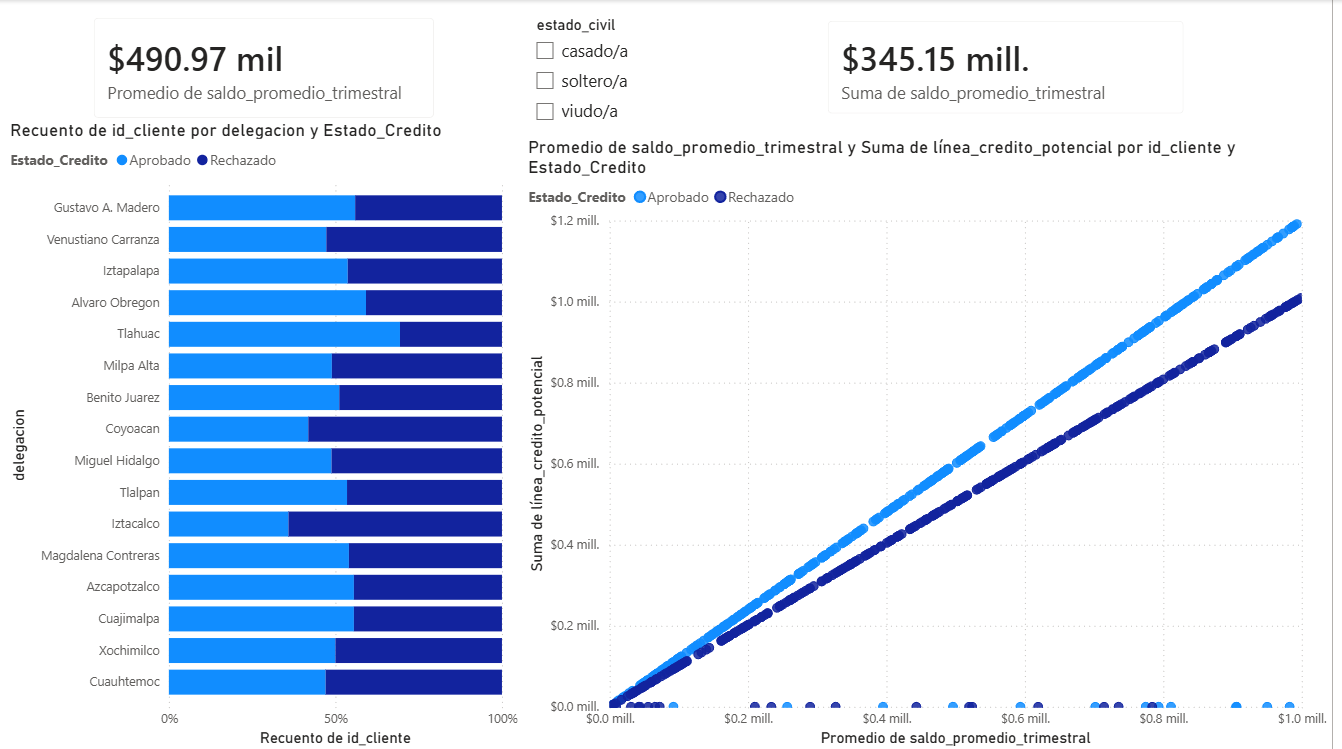

This screenshot's page, from the dashboard's own definition file:
{"tool":"powerbi","page":{"name":"Página 1","canvas":[1280,720],"ordinal":0},"visuals":[{"type":"cardVisual","fields":{"Data":["Avg(data_ml.saldo_promedio)"]},"box":[76.6,0,360.2,130.3],"z":0},{"type":"cardVisual","fields":{"Data":["Sum(data_ml.saldo_promedio_trimestral)"]},"box":[779.9,2.9,375.6,123.6],"z":1000},{"type":"hundredPercentStackedBarChart","fields":{"Category":["data_ml.delegacion"],"Series":["data_ml.Estado_Credito"],"Y":["Count(data_ml.id_cliente)"]},"box":[9,113.7,496.1,606.3],"z":2000},{"type":"slicer","fields":{"Values":["data_ml.estado_civil"]},"box":[504.9,10.5,130.3,119.8],"z":3000},{"type":"scatterChart","fields":{"X":["Avg(data_ml.saldo_promedio_trimestral)"],"Y":["Sum(data_ml.línea_credito_potencial)"],"Category":["data_ml.id_cliente"],"Series":["data_ml.Estado_Credito"]},"box":[504.9,130.3,775.1,590.2],"z":4000}]}

Visuals, with their boxes in screenshot pixels (x1, y1, x2, y2), scaled from the page's 1280x720 canvas onto the 1342x749 screenshot:
cardVisual - Avg(data_ml.saldo_promedio): {"left": 80, "top": 0, "right": 458, "bottom": 136}
cardVisual - Sum(data_ml.saldo_promedio_trimestral): {"left": 818, "top": 3, "right": 1211, "bottom": 132}
hundredPercentStackedBarChart - data_ml.delegacion x data_ml.Estado_Credito: {"left": 9, "top": 118, "right": 530, "bottom": 748}
slicer - data_ml.estado_civil: {"left": 529, "top": 11, "right": 666, "bottom": 136}
scatterChart - Avg(data_ml.saldo_promedio_trimestral) x Sum(data_ml.línea_credito_potencial): {"left": 529, "top": 136, "right": 1341, "bottom": 748}
